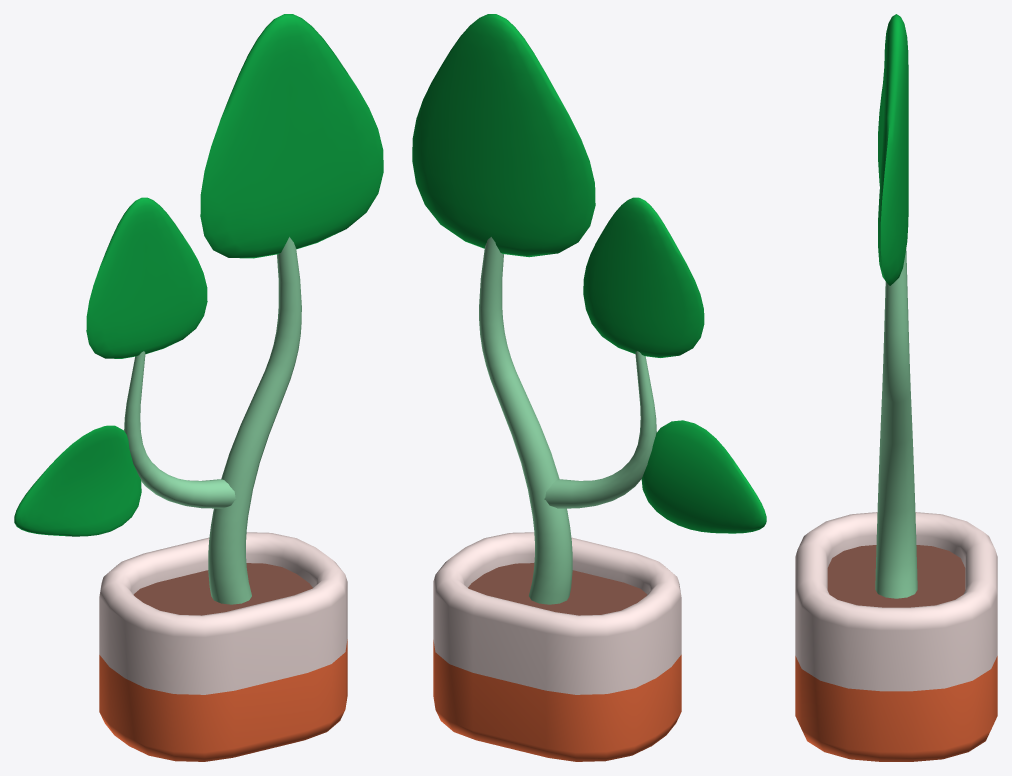
Rendered from City_14_Plant_2.glb.
The picture shows the model from 3 angles, left to right: view 1: azimuth 30°, elevation 25°; view 2: azimuth 150°, elevation 25°; view 3: azimuth 270°, elevation 25°; orthographic projection. The views are drawn at different scales.
Parts seen in each view (by area): view 1: City_14_Plant_2; view 2: City_14_Plant_2; view 3: City_14_Plant_2.
Boxes of the visible parts, x1=… form: City_14_Plant_2: x1=14, y1=14, x2=383, y2=761; City_14_Plant_2: x1=412, y1=14, x2=766, y2=761; City_14_Plant_2: x1=795, y1=14, x2=997, y2=761.
Size of the model in its own units: 0.9127 by 1.67 by 0.4188.
1 material, 1 textured.
